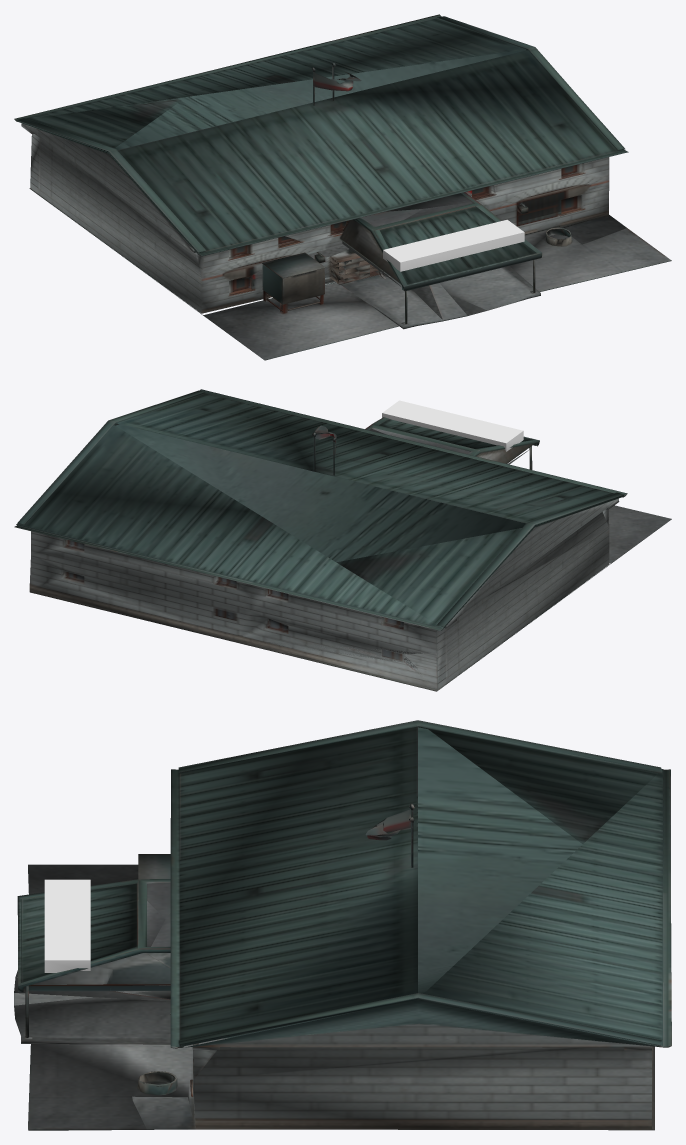
File: ru-barracks.glb
3 views of the same model, one above another, from view 1: azimuth 30°, elevation 25°; view 2: azimuth 150°, elevation 25°; view 3: azimuth 270°, elevation 25° (orthographic). The views are drawn at different scales.
Visible parts, largest first — view 1: ru-barracks; view 2: ru-barracks; view 3: ru-barracks.
Part boxes in pixels (left/top/right/bottom): ru-barracks: left=14, top=14, right=671, bottom=360; ru-barracks: left=14, top=389, right=671, bottom=691; ru-barracks: left=14, top=720, right=671, bottom=1130.
Bounding box in the file's own units: 2.58 × 0.81 × 2.58.
Materials: 2 (1 with a texture image).
